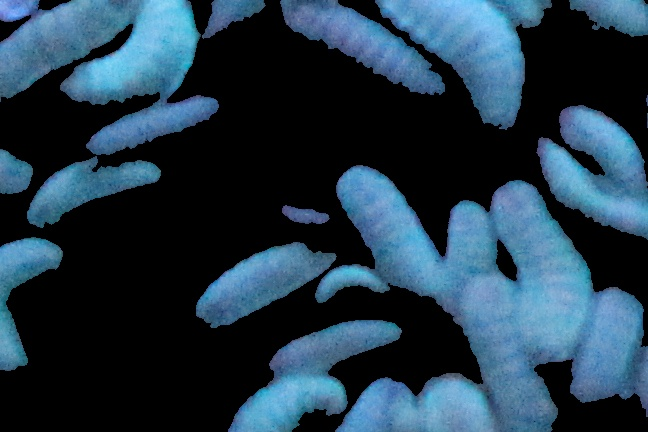larvae: (361, 1, 526, 130), (492, 180, 592, 369), (450, 273, 559, 429), (334, 166, 447, 310), (277, 1, 438, 96), (62, 1, 195, 103), (192, 243, 336, 330), (1, 1, 132, 96), (536, 135, 648, 235), (20, 160, 176, 230), (565, 284, 641, 402), (1, 238, 63, 370), (87, 93, 218, 155), (556, 105, 648, 189), (267, 320, 401, 375), (226, 376, 349, 432), (431, 196, 501, 271), (313, 262, 388, 310)
